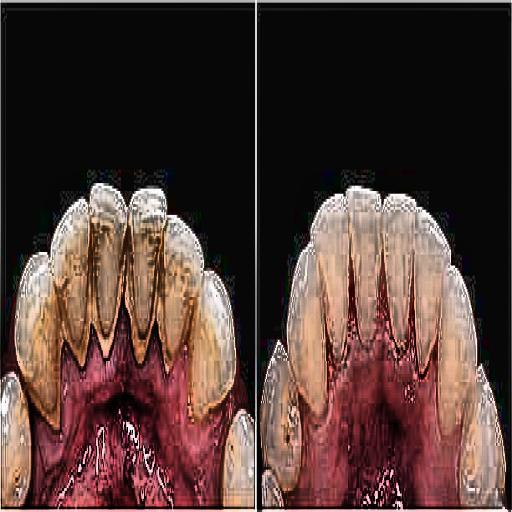Calculus: (1, 182, 232, 490)
